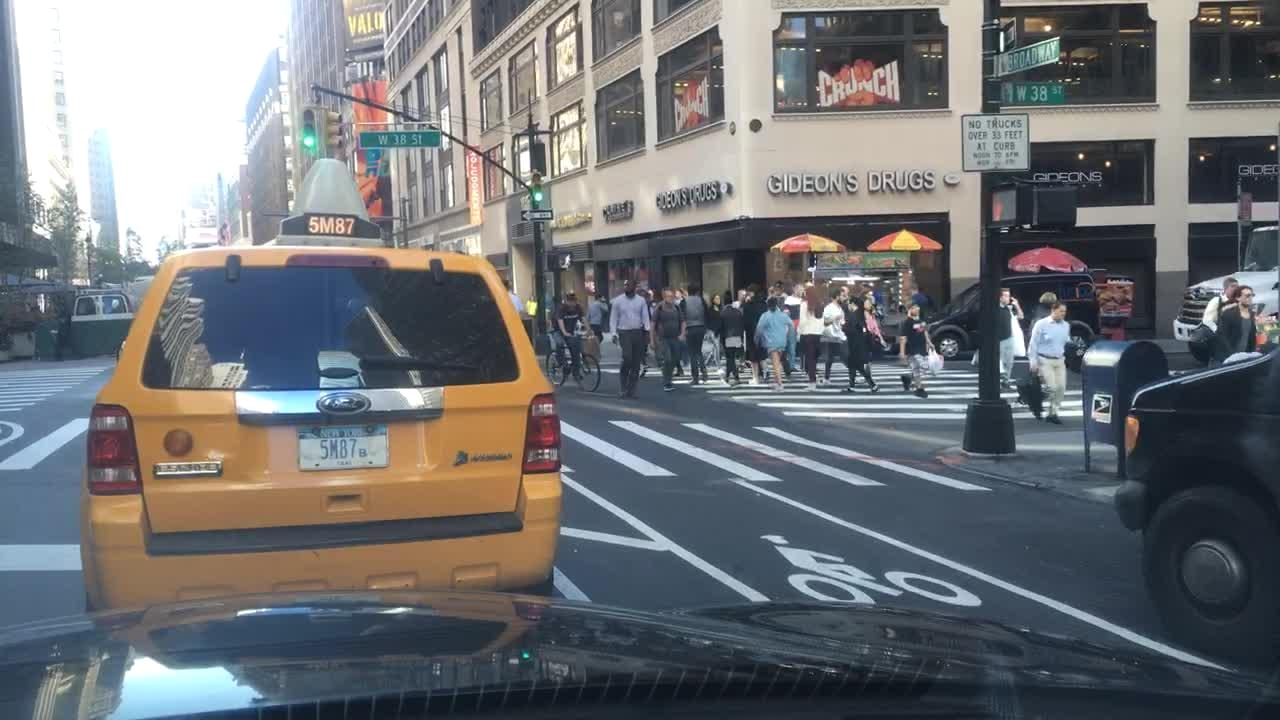ford: (308, 389, 390, 429)
